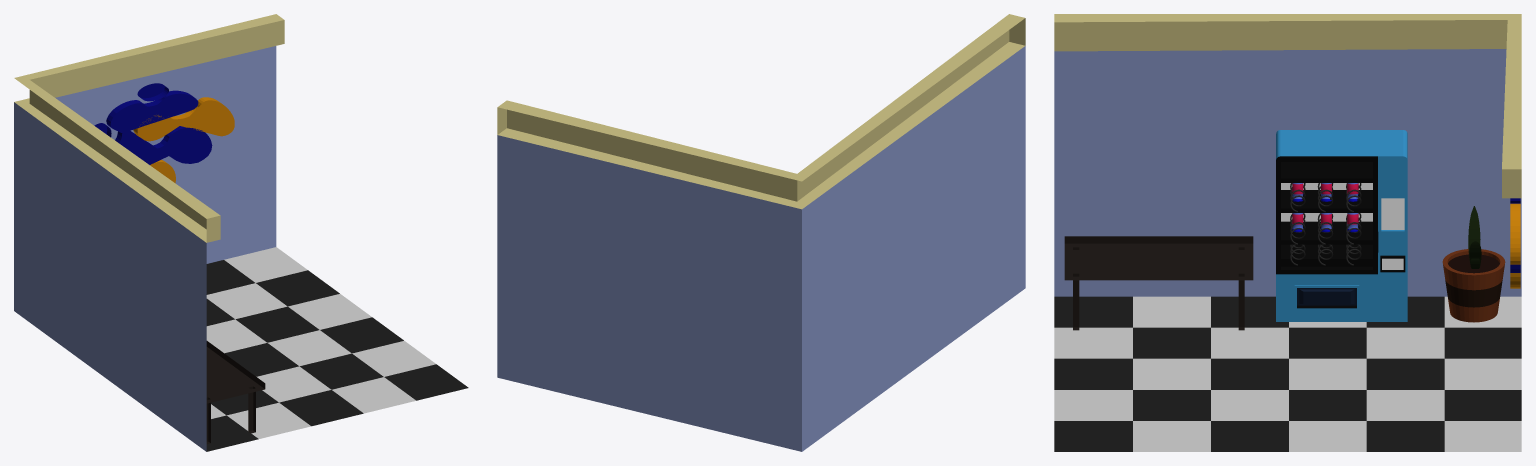
File: Allanim0001.obj
The picture shows the model from 3 angles, left to right: view 1: azimuth 30°, elevation 25°; view 2: azimuth 150°, elevation 25°; view 3: azimuth 270°, elevation 25°; orthographic projection. The views are drawn at different scales.
Parts seen in each view (by area): view 1: ruangan_Cube.003, meja_Cube.004, logo.001_Circle.019, logo_Circle.006, logo.005_Circle.023; view 2: ruangan_Cube.003; view 3: ruangan_Cube.003, vending_machine_Cube.001, meja_Cube.004, pot_bunga_Cylinder, per_second\_Spiral.010, Plane.007, logo_Circle.006.
Part boxes in pixels (bbox=[...]): ruangan_Cube.003: bbox=[14, 14, 468, 451]; meja_Cube.004: bbox=[206, 341, 265, 444]; logo.001_Circle.019: bbox=[115, 126, 212, 164]; logo_Circle.006: bbox=[133, 97, 234, 141]; logo.005_Circle.023: bbox=[106, 90, 198, 133]; ruangan_Cube.003: bbox=[497, 14, 1025, 451]; ruangan_Cube.003: bbox=[1054, 14, 1521, 451]; vending_machine_Cube.001: bbox=[1276, 130, 1407, 321]; meja_Cube.004: bbox=[1064, 236, 1253, 330]; pot_bunga_Cylinder: bbox=[1442, 249, 1505, 322]; per_second\_Spiral.010: bbox=[1290, 183, 1361, 265]; Plane.007: bbox=[1468, 206, 1481, 268]; logo_Circle.006: bbox=[1510, 203, 1520, 264].
Size of the model in its own units: 11.73 by 9.95 by 14.9.
